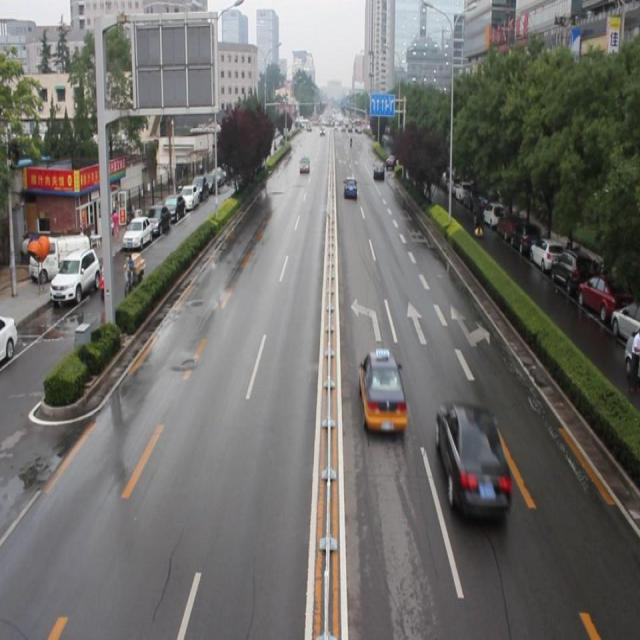car: (433, 400, 510, 523), (357, 345, 408, 434), (341, 176, 357, 199), (298, 156, 310, 172), (373, 163, 383, 178)
